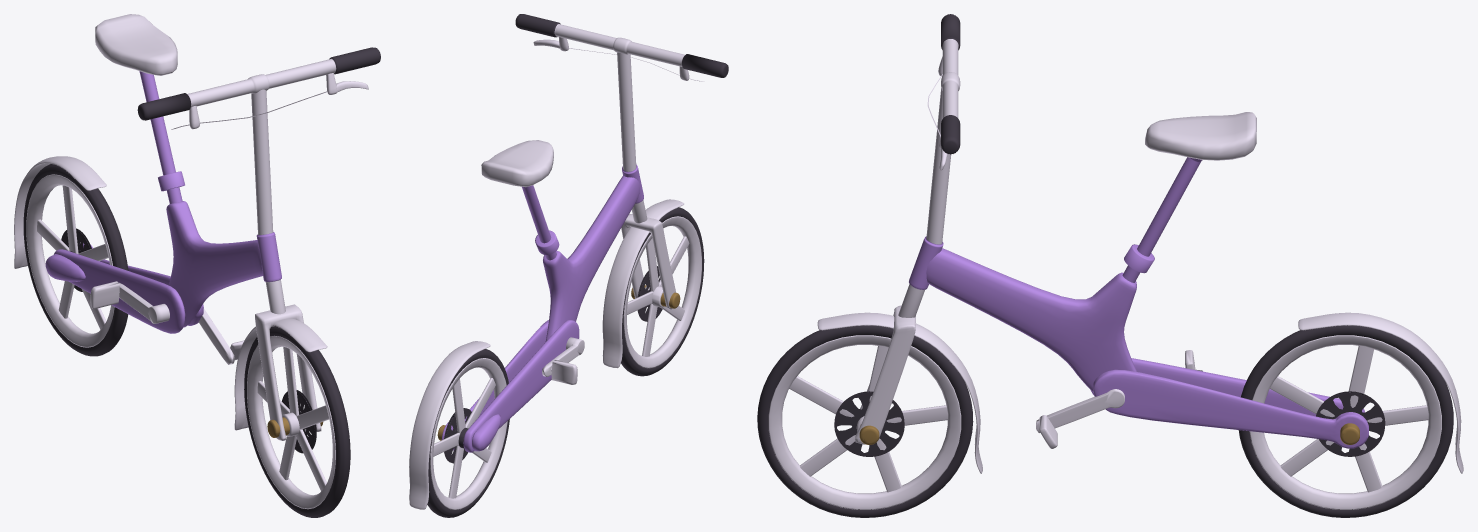
The model's file is electricbike@idle.fbx.
3 views of the same model, side by side, from view 1: azimuth 30°, elevation 25°; view 2: azimuth 150°, elevation 25°; view 3: azimuth 270°, elevation 25° (orthographic). The views are drawn at different scales.
Visible parts, largest first — view 1: polySurface86, polySurface88, polySurface81, polySurface39; view 2: polySurface86, polySurface88, polySurface81, polySurface39; view 3: polySurface86, polySurface88, polySurface81, polySurface39.
Part boxes in pixels (x1,y1,x2,y2): polySurface86: (14,14,380,453); polySurface88: (244,326,350,517); polySurface81: (23,164,128,356); polySurface39: (90,281,244,364); polySurface86: (409,14,728,509); polySurface88: (621,207,704,376); polySurface81: (427,349,509,517); polySurface39: (542,337,584,384); polySurface86: (817,14,1463,473); polySurface88: (757,325,973,517); polySurface81: (1238,325,1453,517); polySurface39: (1036,350,1202,448).
Bounding box in the file's own units: 2.83 × 4.62 × 6.69.
